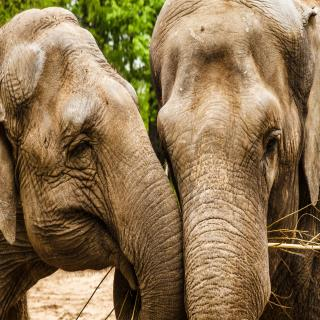Elephant: (0, 0, 189, 320), (149, 0, 320, 320)
